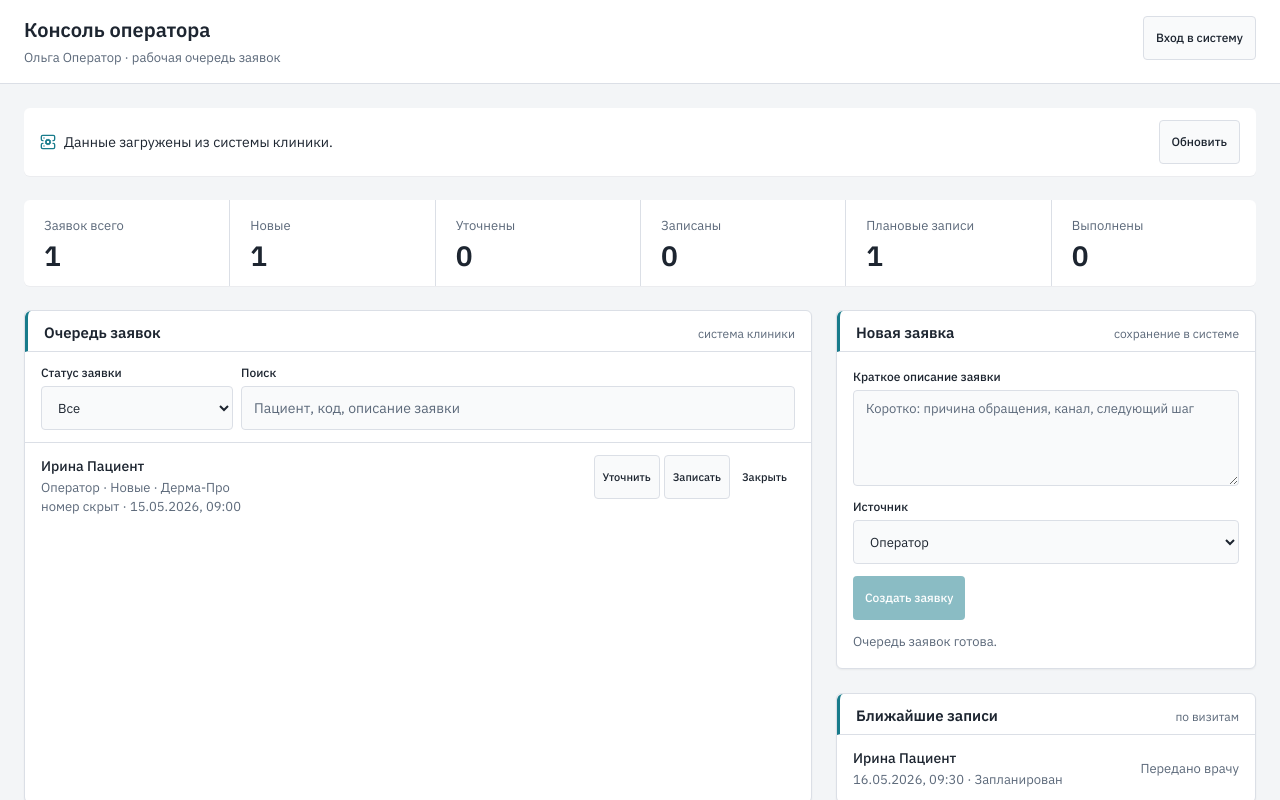
Scenario: OperatorConsolePage · Stage 5M production intake › creates, qualifies, books and marks leads lost through clinic system only
Later steps or results of the test are not shown.
expect the text "Ирина Пациент" below "Статус заявки" is shown: met, box x1=41 y1=457 x2=144 y2=475
Type "Создано оператором" into the text box labelled "Краткое описание заявки" at (1046, 438), box x1=853 y1=390 x2=1239 y2=486
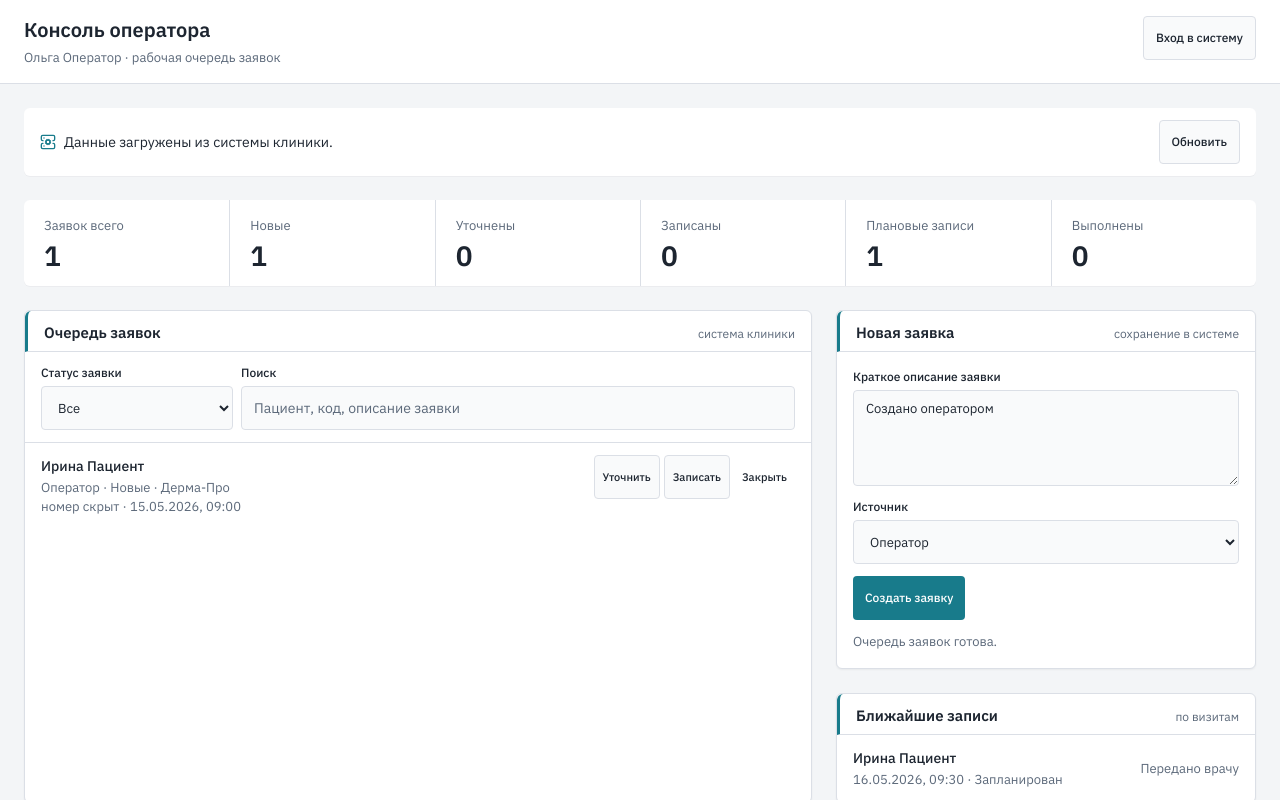
Click the button "Создать заявку" at (909, 598), box x1=853 y1=576 x2=966 y2=620
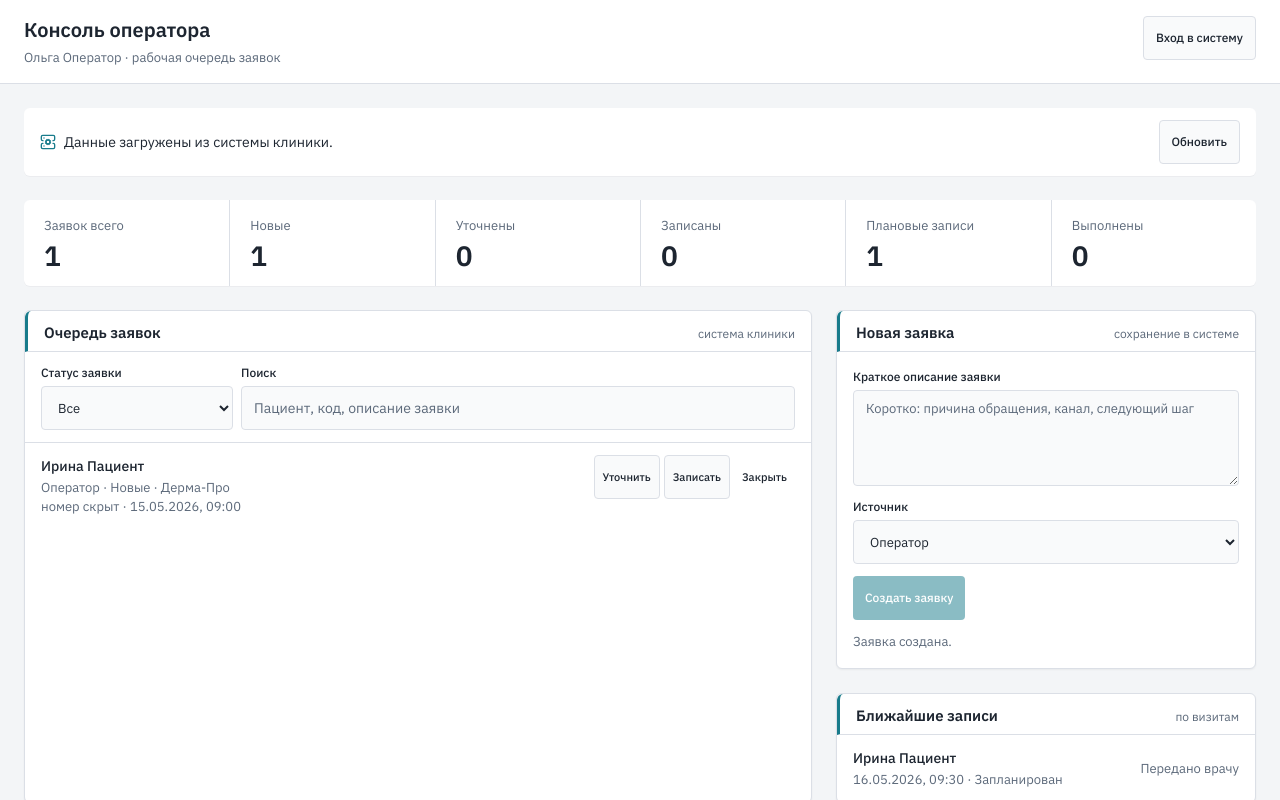
expect the text "Заявка создана." is shown: met, box x1=853 y1=633 x2=952 y2=650
